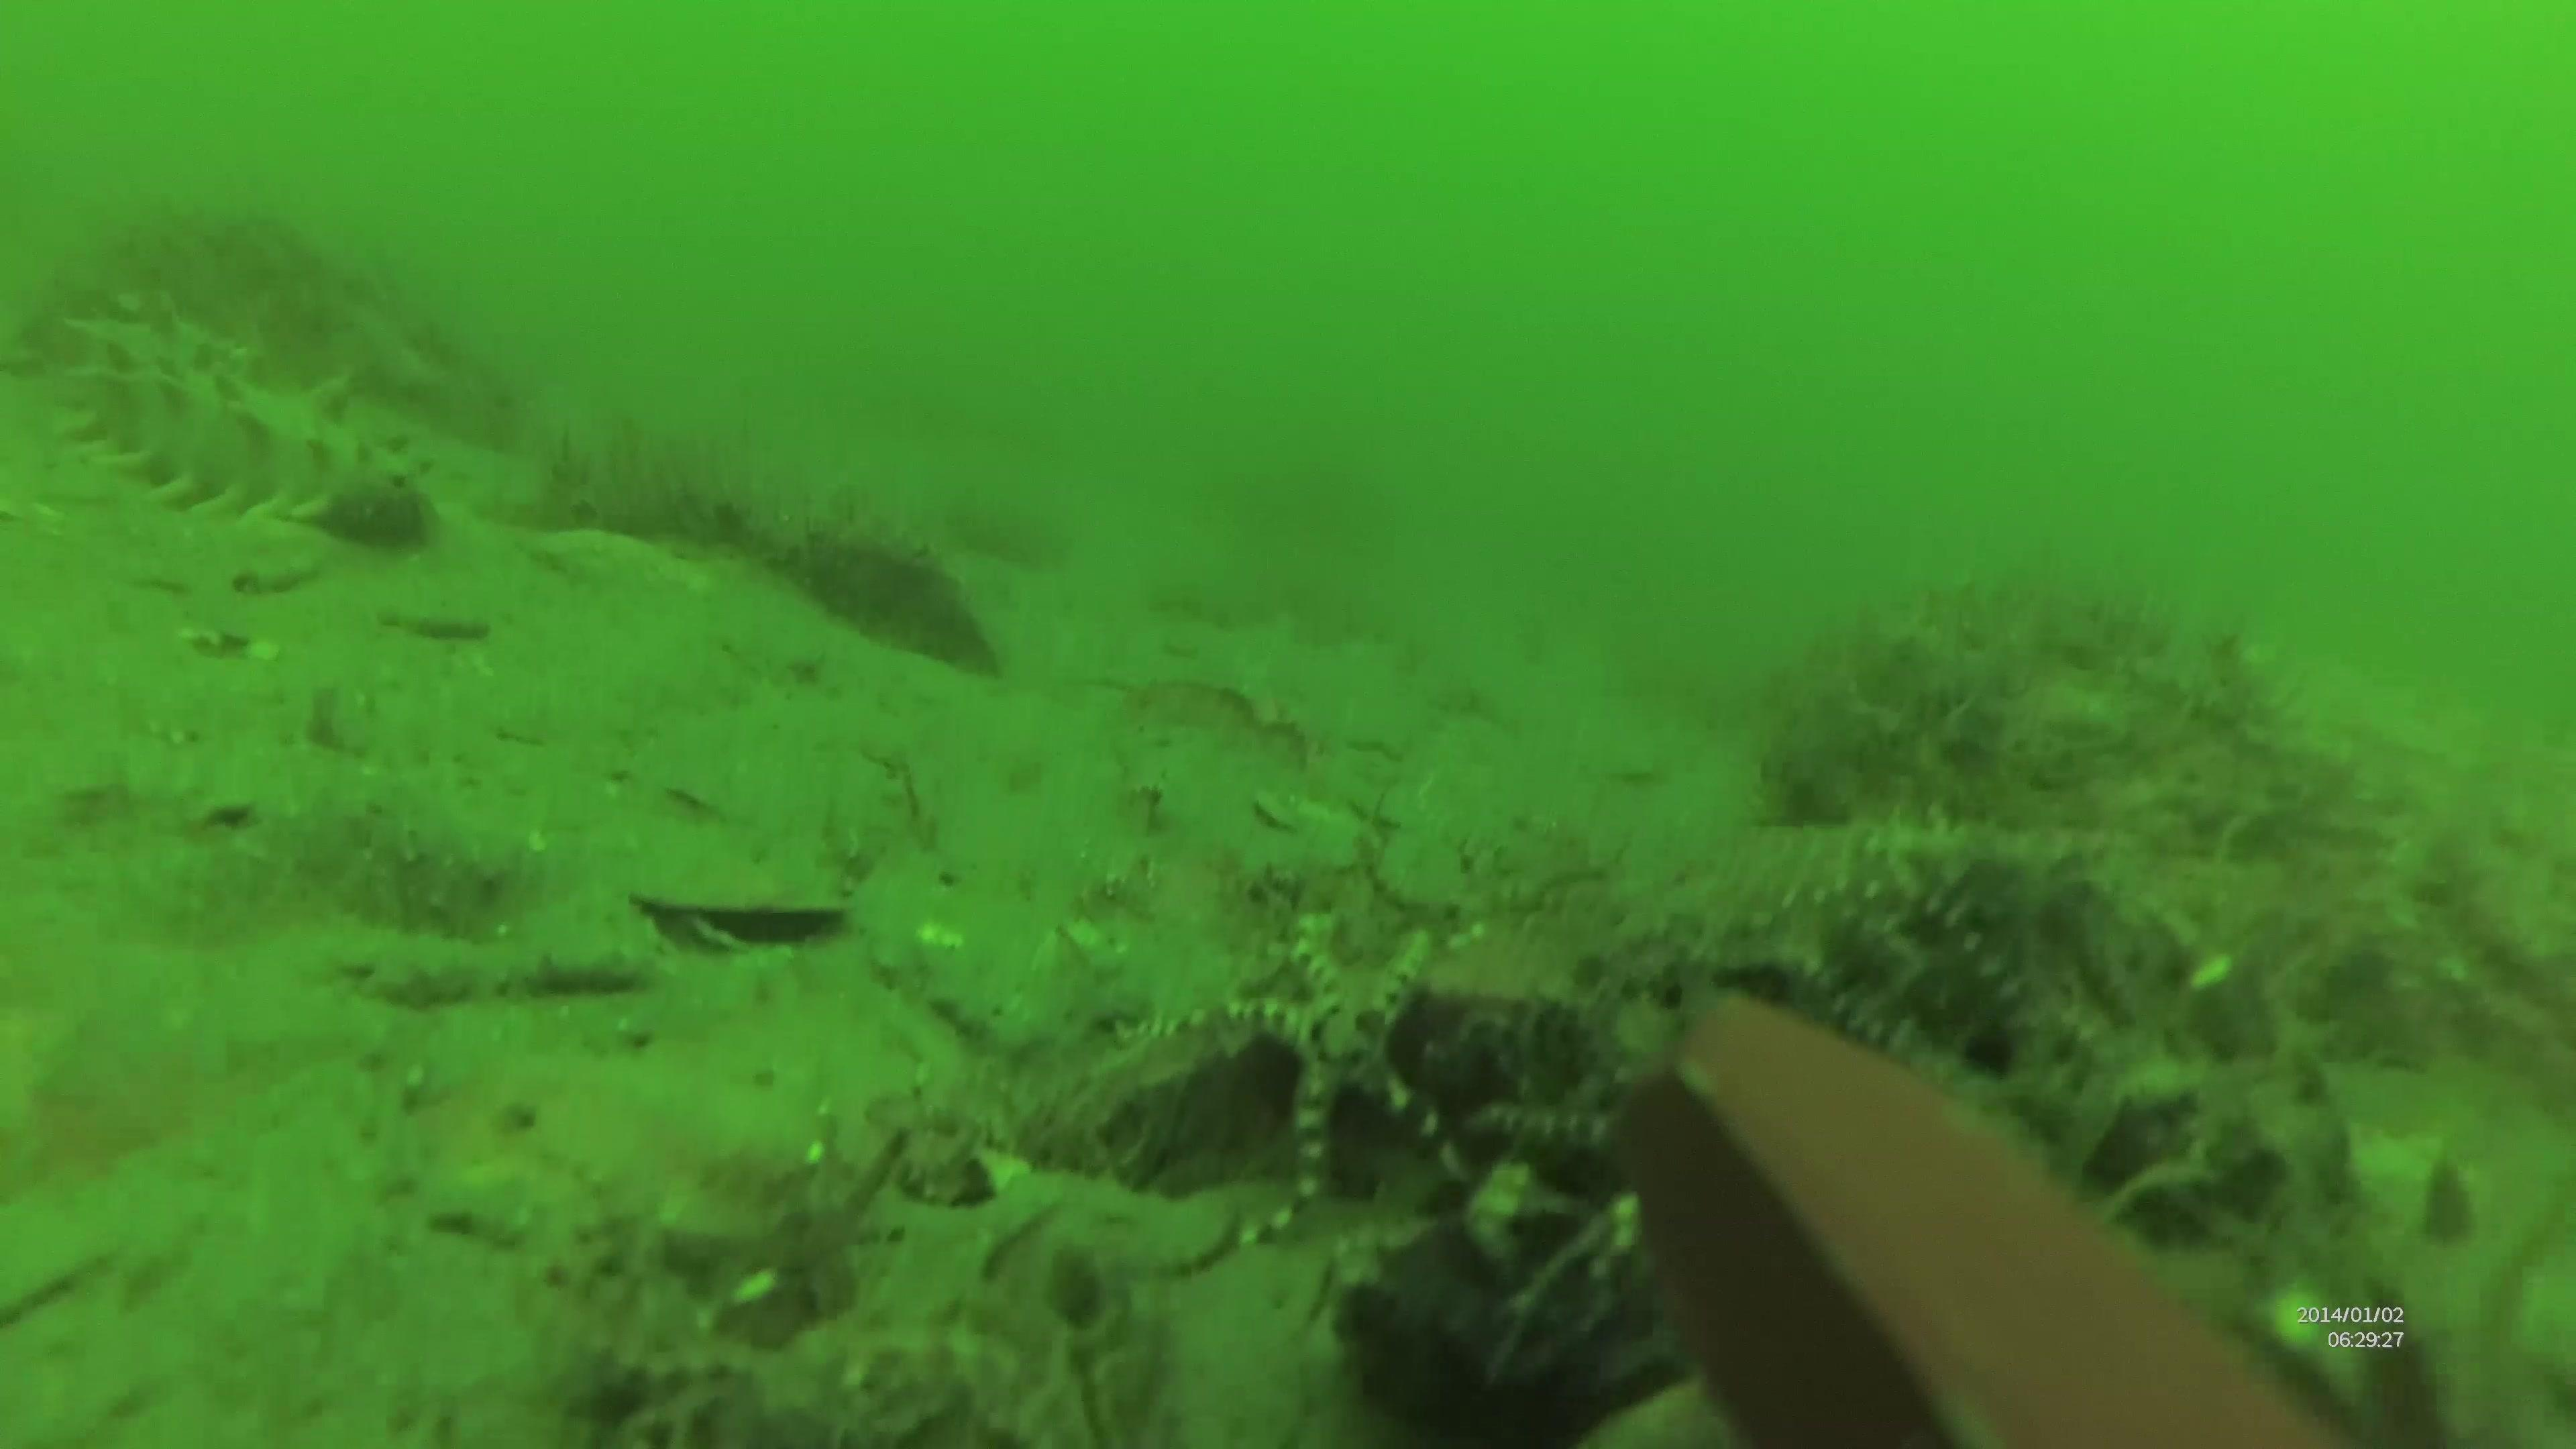holothurian: (48, 295, 439, 550), (326, 929, 672, 1021)
starfish: (1113, 913, 1527, 1258)
